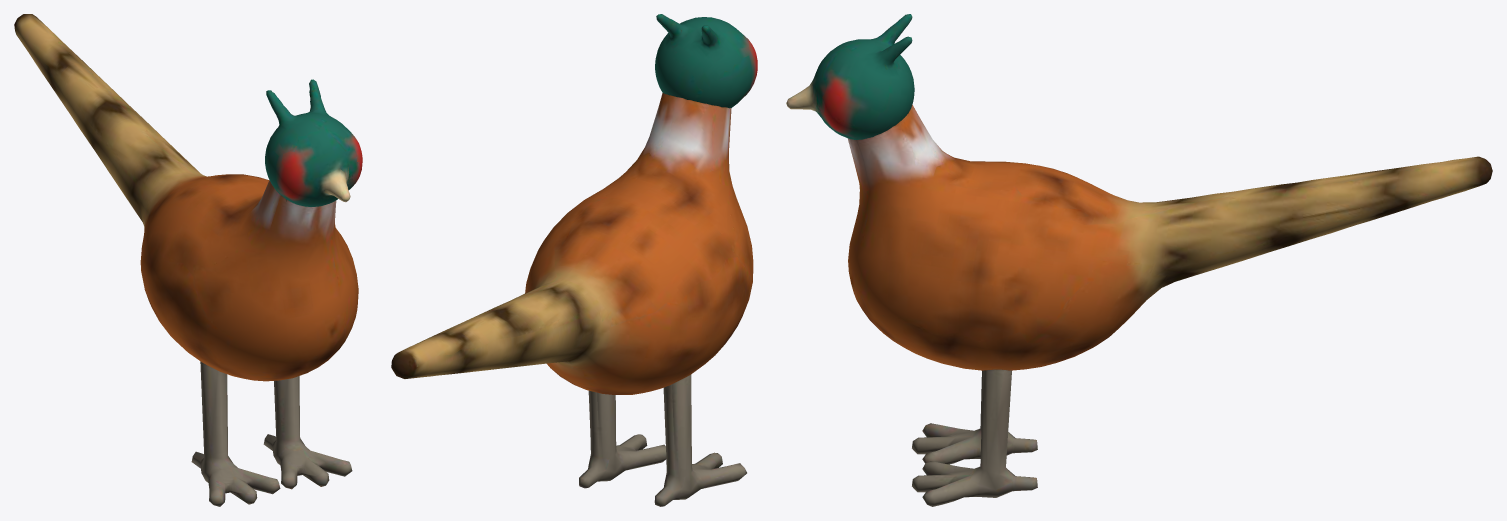
File: animal_pheasant.glb
3 views of the same model, side by side, from view 1: azimuth 30°, elevation 25°; view 2: azimuth 150°, elevation 25°; view 3: azimuth 270°, elevation 25° (orthographic). The views are drawn at different scales.
Parts seen in each view (by area): view 1: animal_pheasant, head, leg0, leg1; view 2: animal_pheasant, head, leg0, leg1; view 3: animal_pheasant, head, leg1, leg0.
Boxes of the visible parts, x1,y1,x2,y2 form: animal_pheasant: (14, 14, 358, 381); head: (265, 79, 362, 206); leg0: (191, 361, 280, 506); leg1: (263, 376, 352, 489); animal_pheasant: (391, 93, 753, 394); head: (655, 14, 757, 108); leg0: (654, 374, 746, 506); leg1: (579, 390, 666, 488); animal_pheasant: (847, 105, 1492, 370); head: (786, 14, 914, 139); leg1: (912, 369, 1037, 506); leg0: (912, 370, 1037, 464).
Bounding box in the file's own units: 0.1402 × 0.3329 × 0.4717.
Materials: 1 (1 with a texture image).
